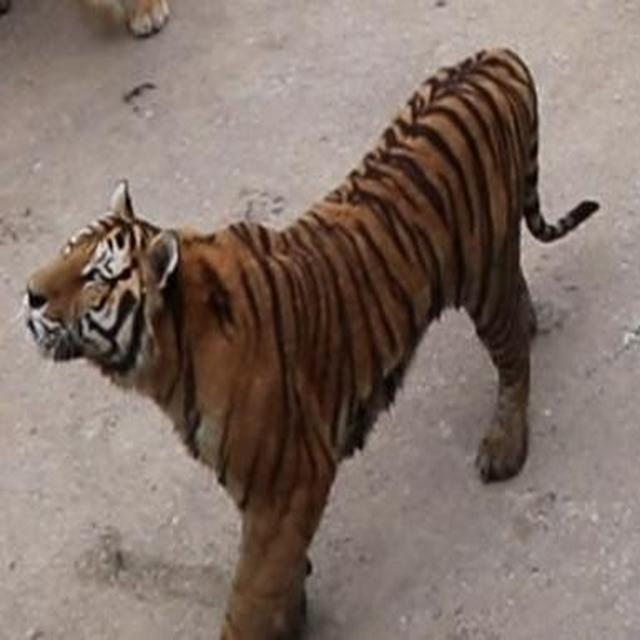tiger: (20, 44, 600, 639), (0, 0, 174, 39)
